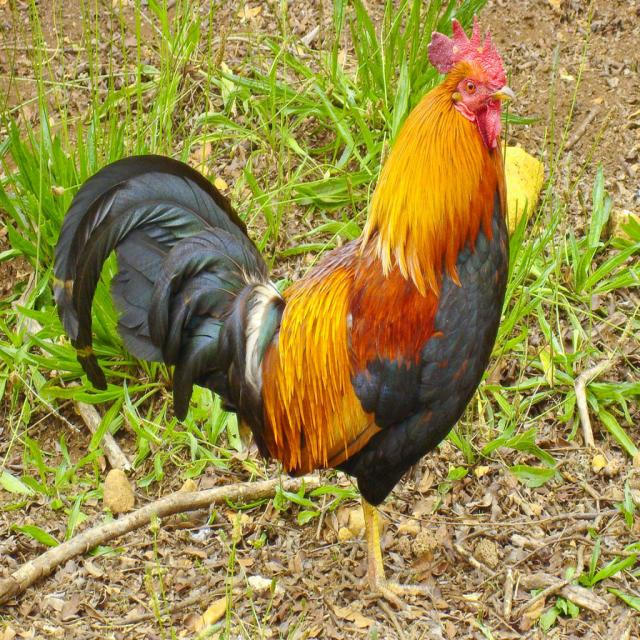Chicken: (78, 17, 524, 608)
